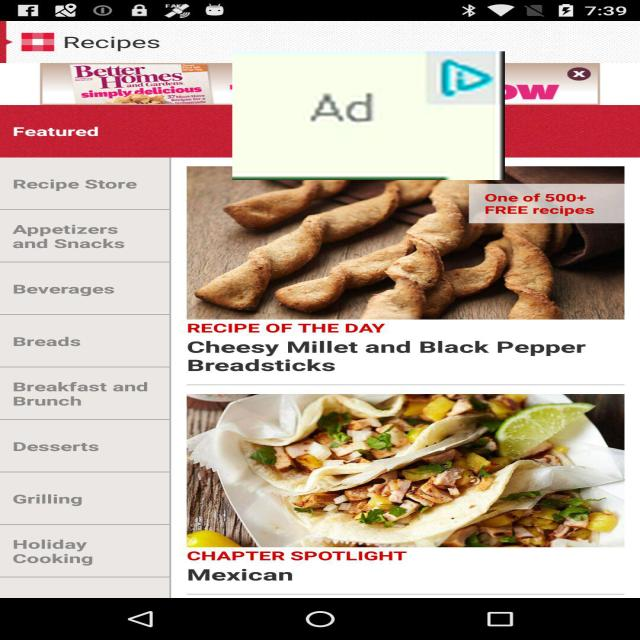sneaking: (232, 51, 505, 180)
